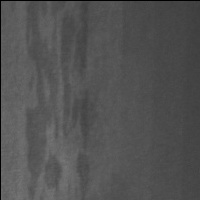inclusion: (20, 2, 92, 198)
